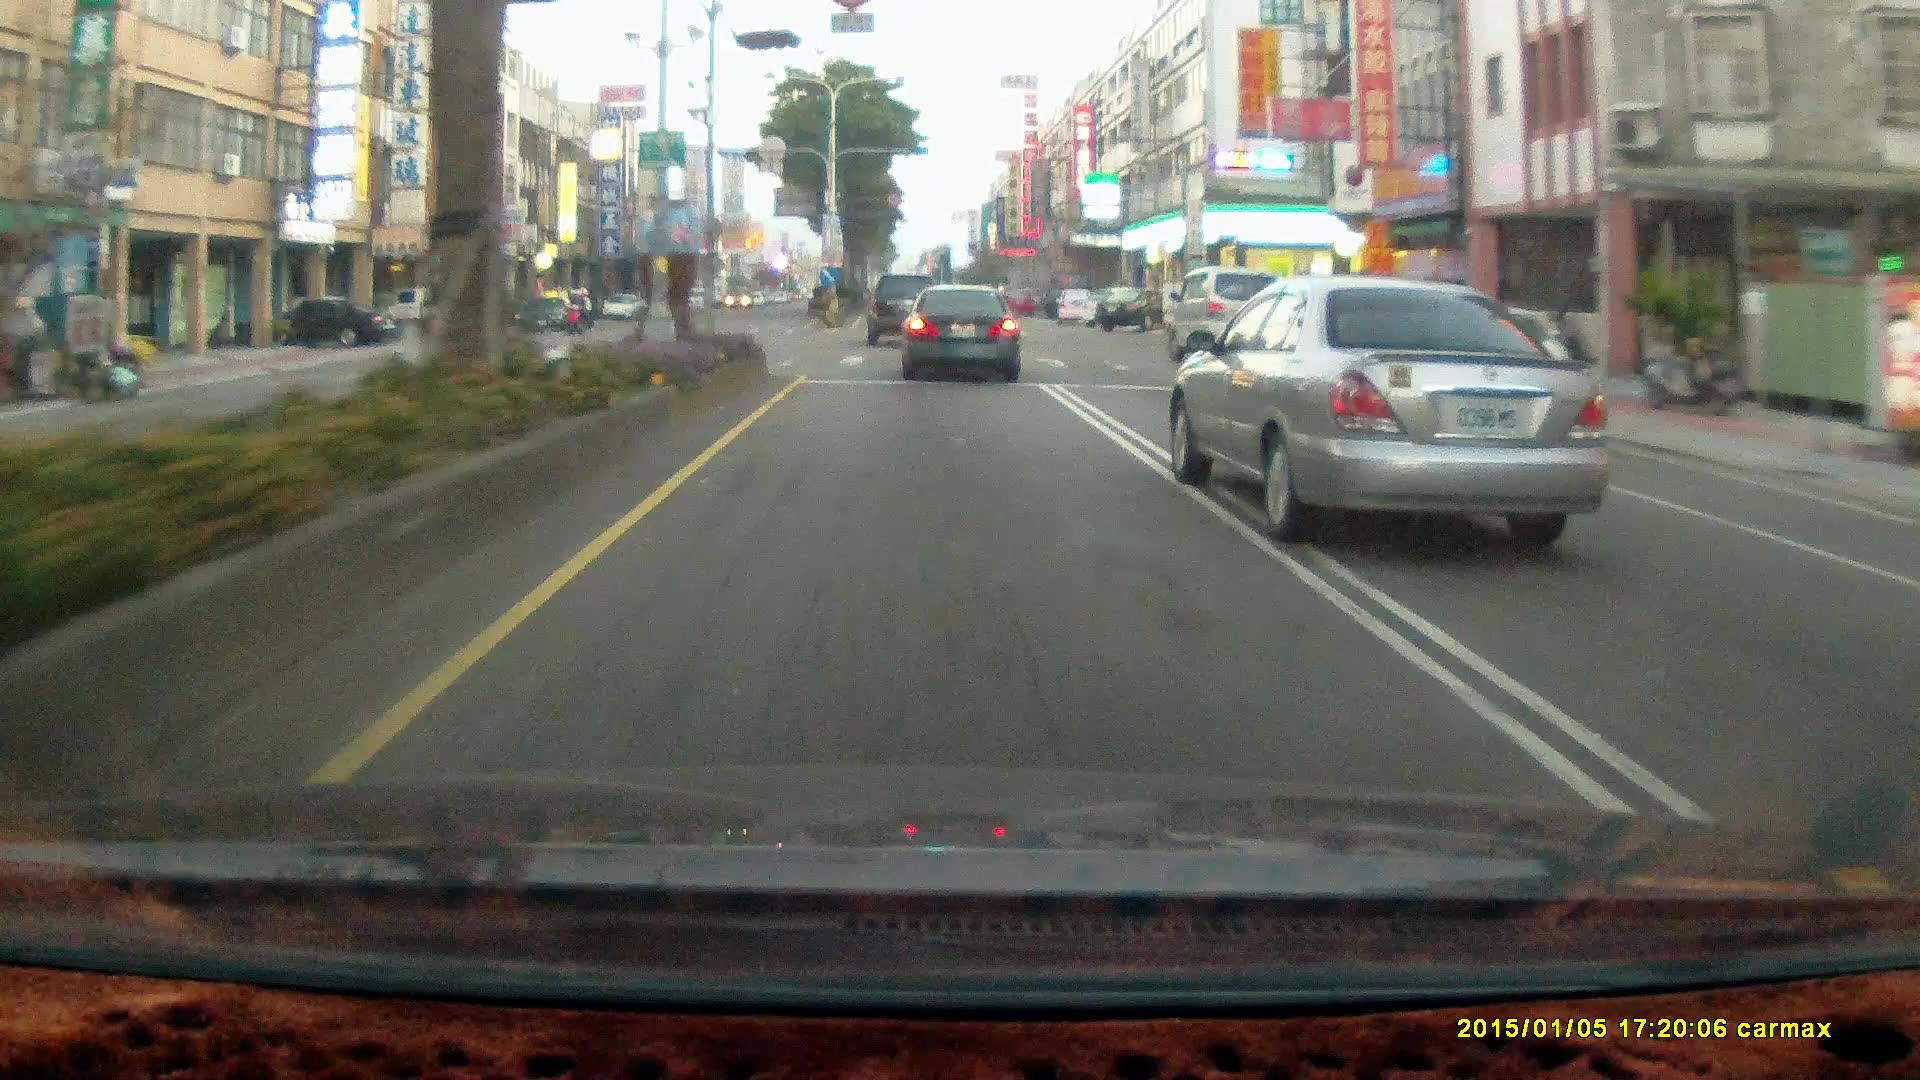rider: (564, 289, 593, 335)
vehicle: (1172, 276, 1628, 548), (899, 284, 1026, 386), (899, 284, 1020, 381), (1165, 264, 1282, 360), (1168, 269, 1286, 362), (246, 296, 387, 347), (279, 296, 396, 352), (865, 272, 944, 350), (387, 286, 490, 342), (866, 273, 942, 346), (377, 285, 484, 333), (1094, 287, 1176, 330), (1094, 285, 1150, 330), (519, 297, 576, 330), (1052, 287, 1098, 325), (608, 294, 644, 319)
